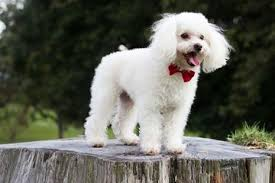Bulldog: (79, 1, 241, 159)
